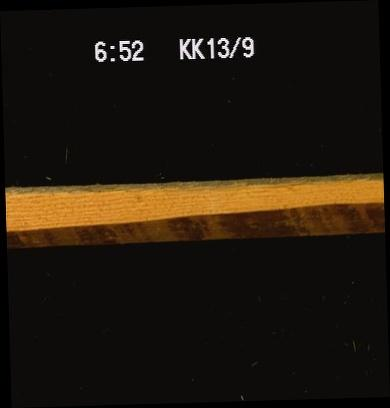wave: (7, 218, 384, 241), (11, 178, 382, 196)
